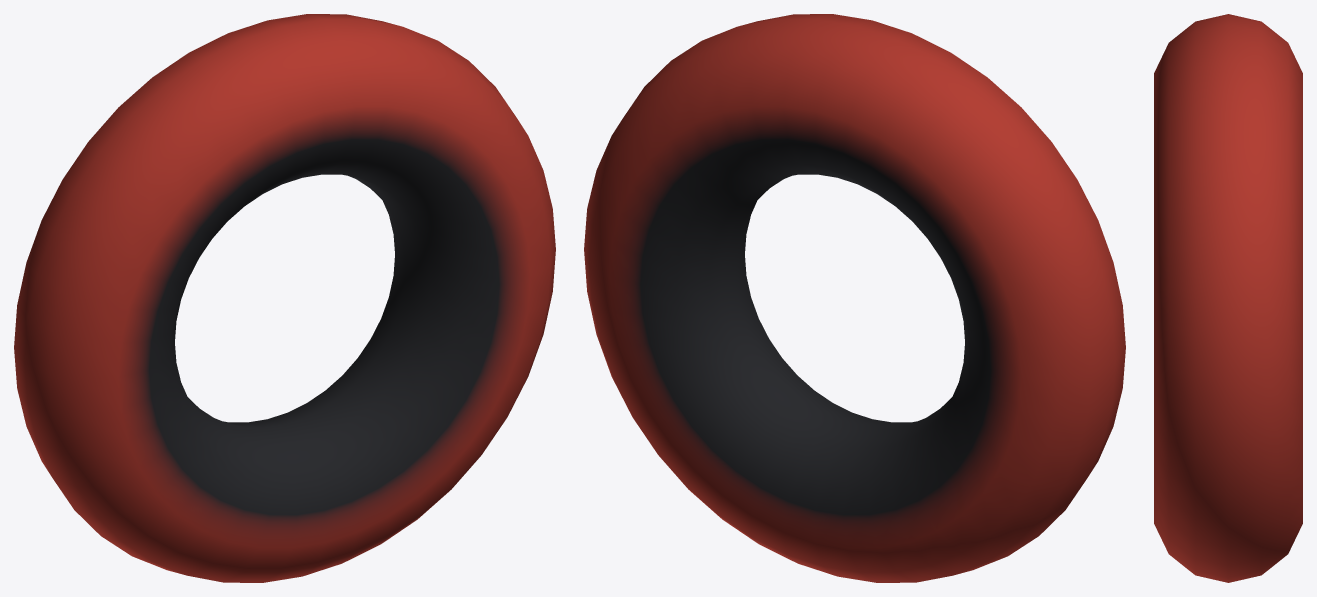
File: Park_Tire_Red.fbx
3 views of the same model, side by side, from view 1: azimuth 30°, elevation 25°; view 2: azimuth 150°, elevation 25°; view 3: azimuth 270°, elevation 25° (orthographic). The views are drawn at different scales.
Parts seen in each view (by area): view 1: Park_Tire_Red; view 2: Park_Tire_Red; view 3: Park_Tire_Red.
Boxes of the visible parts, x1,y1,x2,y2 form: Park_Tire_Red: (14,14,555,582); Park_Tire_Red: (584,14,1125,582); Park_Tire_Red: (1154,14,1302,582).
Bounding box in the file's own units: 8.2 × 8.2 × 2.14.
